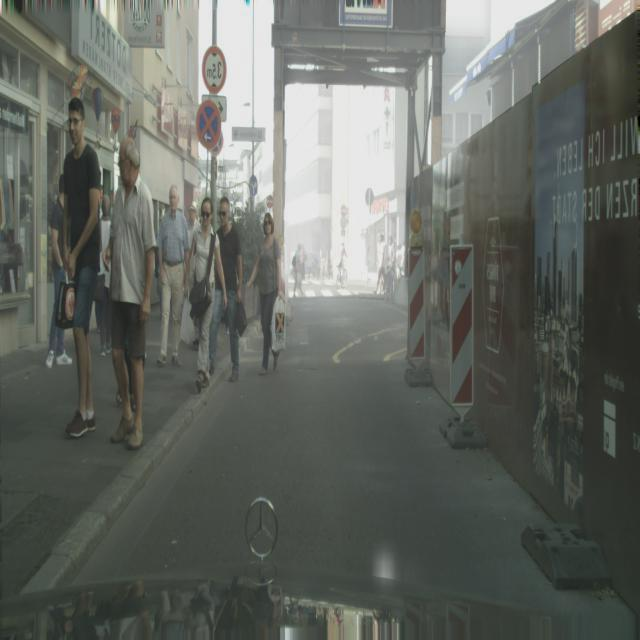person: (105, 136, 156, 448), (62, 97, 102, 438), (155, 184, 190, 368), (245, 212, 284, 376), (188, 195, 218, 392), (213, 194, 243, 382), (45, 176, 72, 369), (374, 232, 386, 295), (291, 245, 305, 297), (386, 232, 396, 298)
